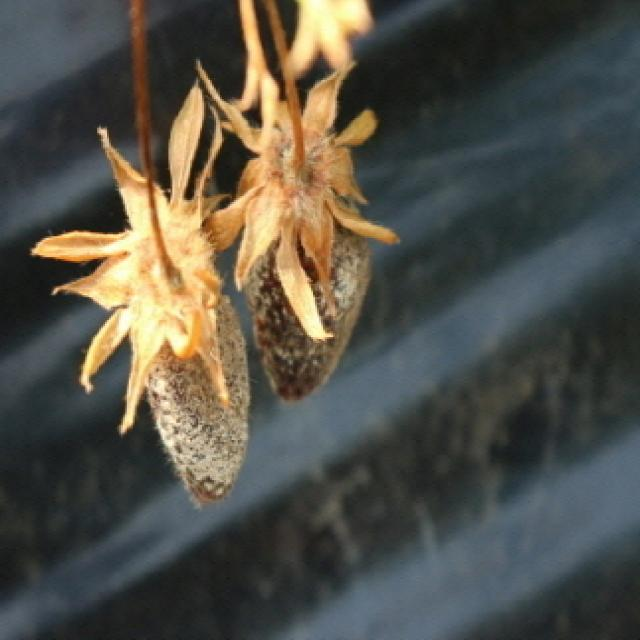Gray Mold: (33, 79, 260, 506), (199, 60, 398, 405)
